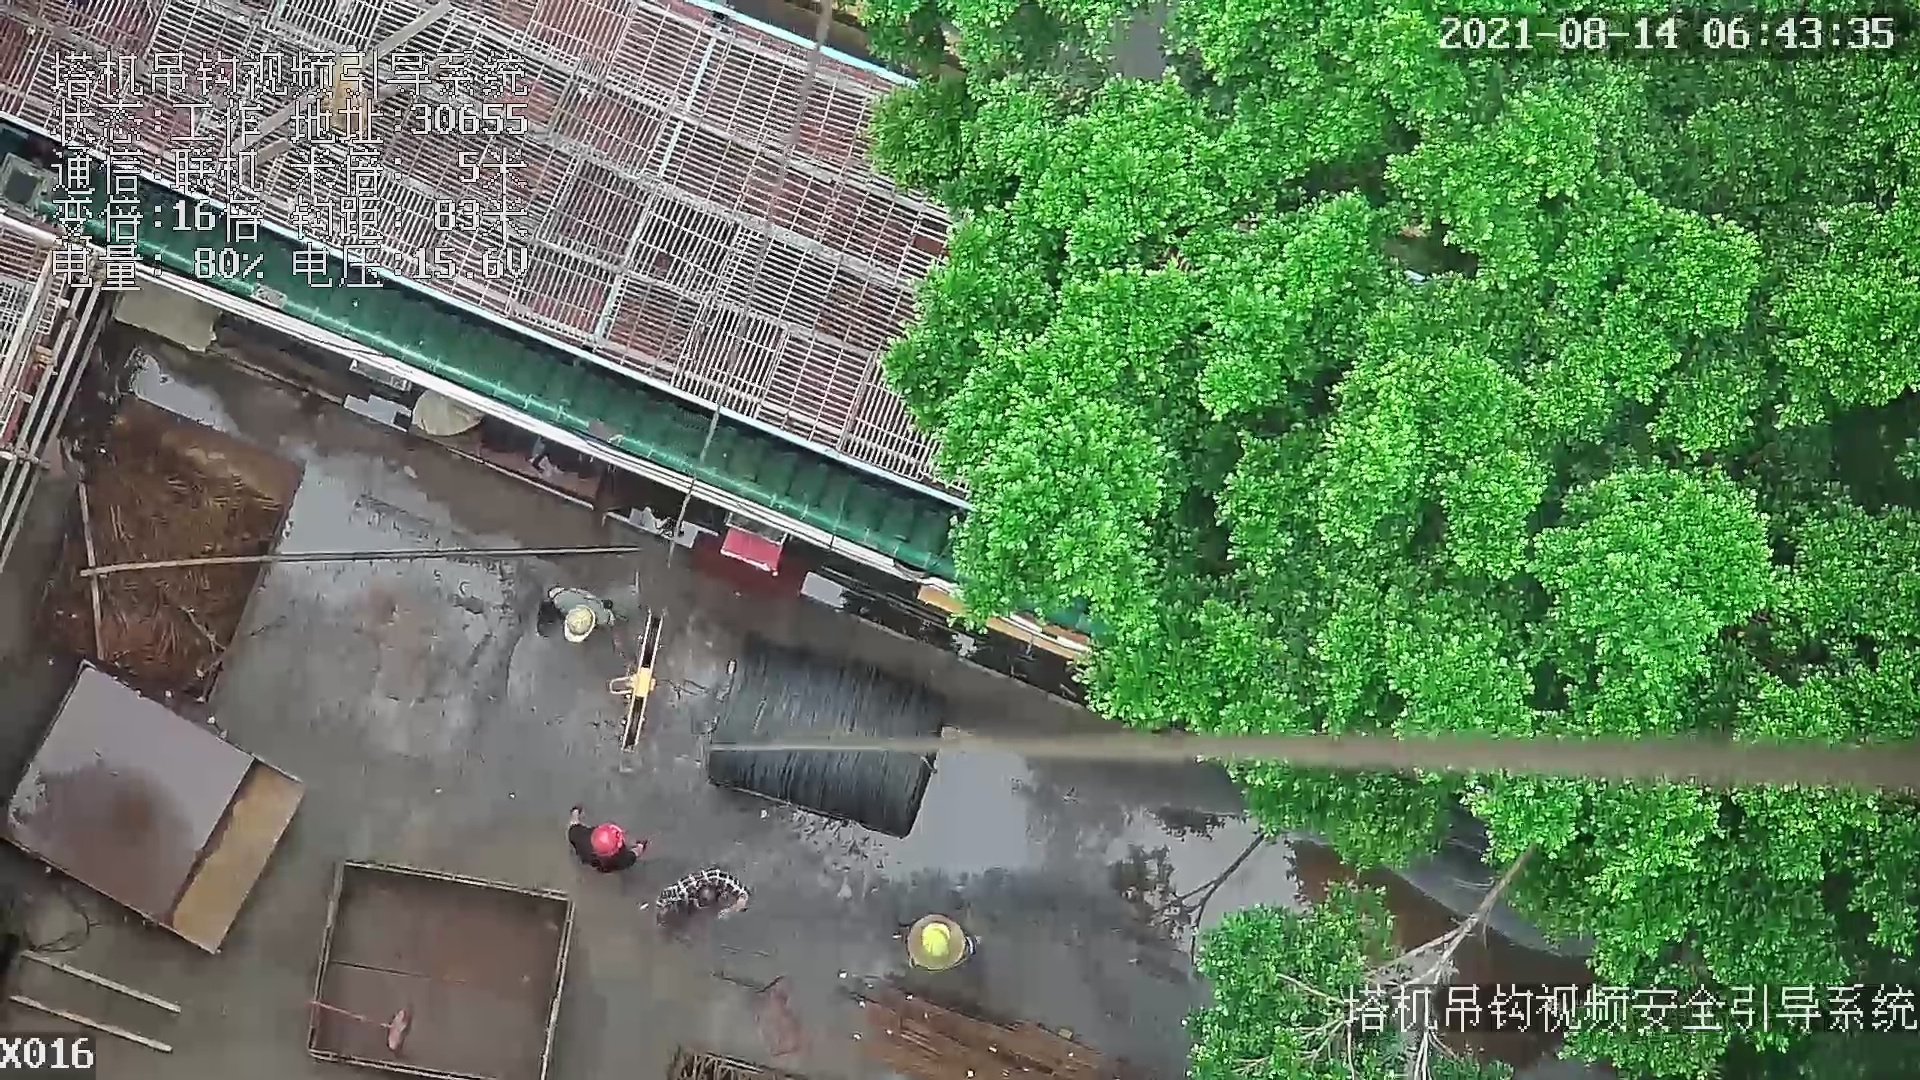helmet: (564, 601, 595, 647), (588, 822, 625, 854)
person: (636, 867, 755, 927), (563, 804, 659, 872), (894, 921, 994, 973), (534, 585, 618, 646)
